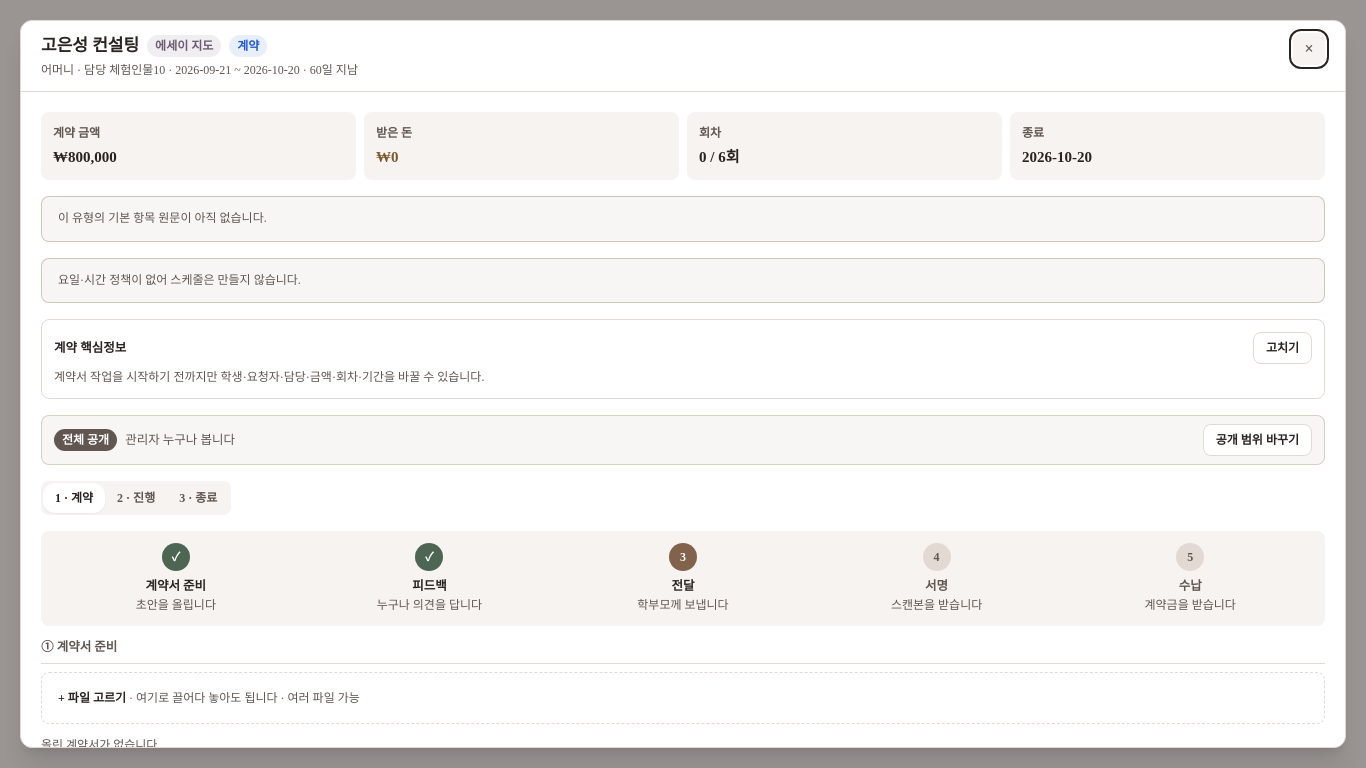
ConsultingContractWorkflow › 「1 · 계약 / 2 · 진행 / 3 · 종료」는 누르는 탭이고, 탭마다 본문이 바뀐다 — 기본은 지금 단계(계약)
Expected: the button "1 · 계약" is shown, [43,483,105,513]
Expected: the heading "① 계약서 준비" is shown, [41,638,117,657]
Click the button "2 · 진행".
click(136, 498)  # box [105,483,167,513]
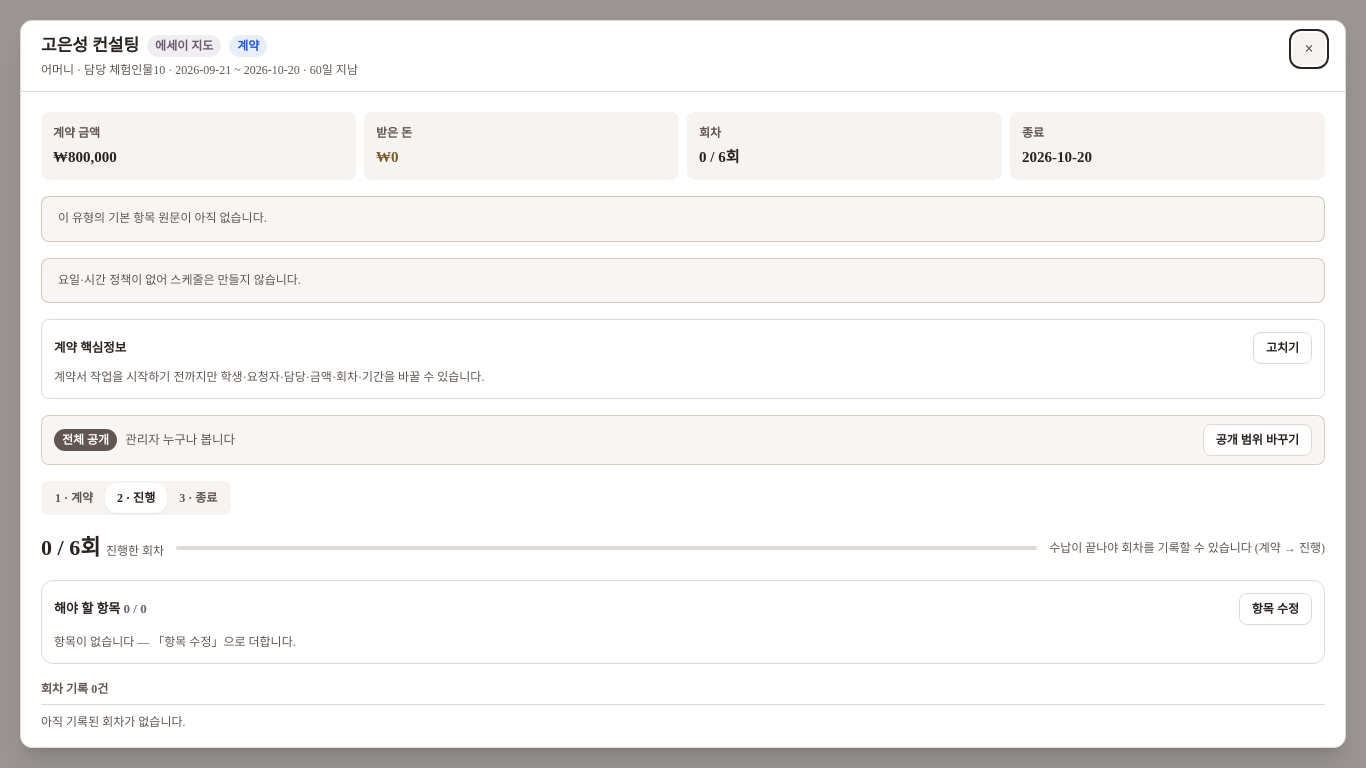
Expected: the heading "① 계약서 준비" is gone
Expected: the heading "회차 기록 0건" is shown, [41,680,1325,705]
Click the button "3 · 종료".
click(198, 498)  # box [167,483,229,513]
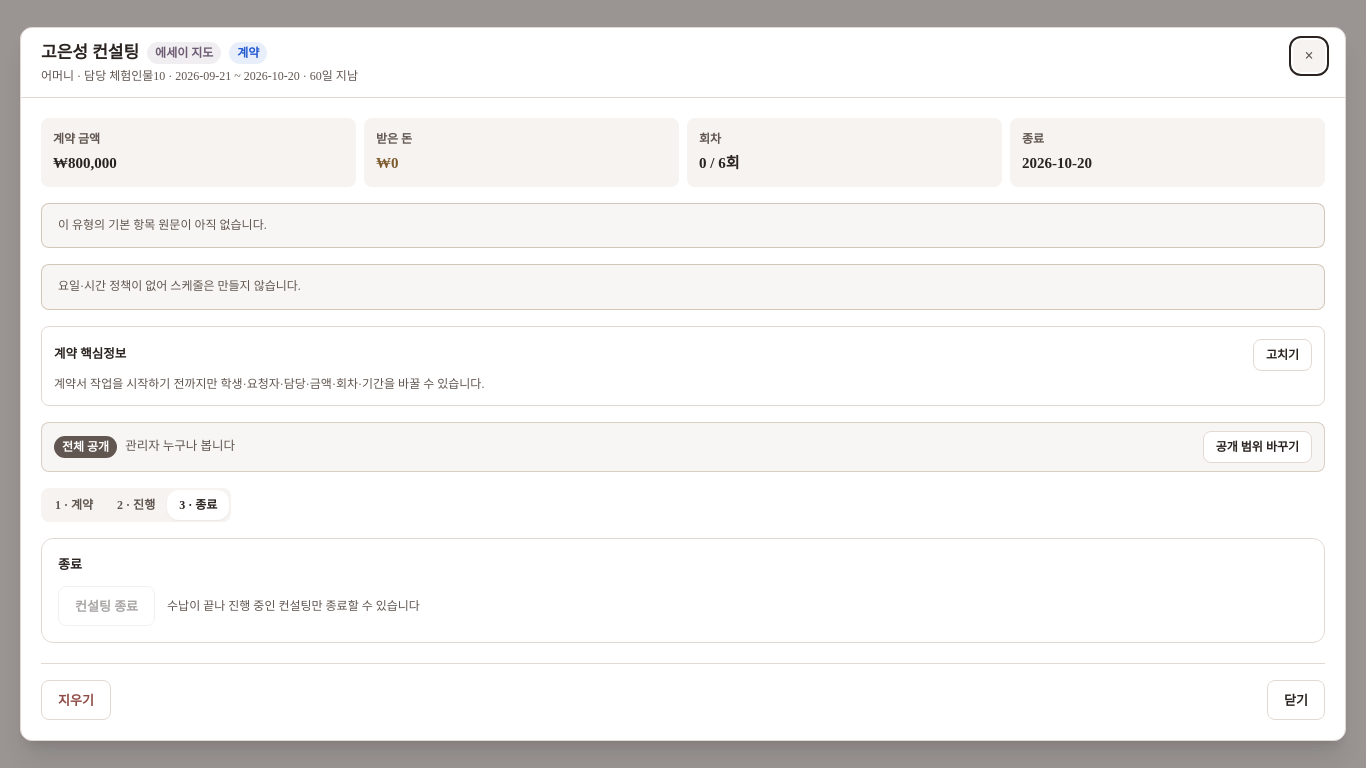
Expected: the heading "회차 기록 0건" is gone
Expected: the button "컨설팅 종료" is disabled, [58,586,155,626]
Expected: the text "수납이 끝나 진행 중인 컨설팅만 종료할 수 있습니다" is shown, [167,597,420,615]
